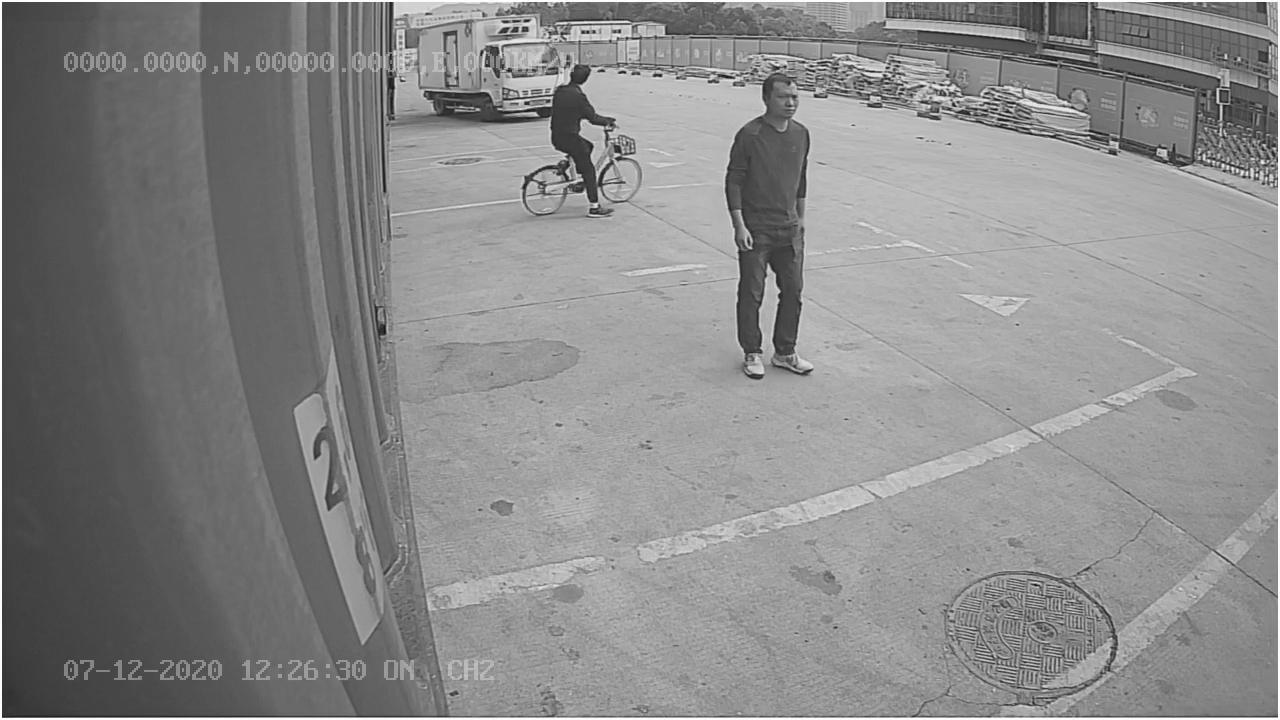person: (722, 69, 820, 384)
